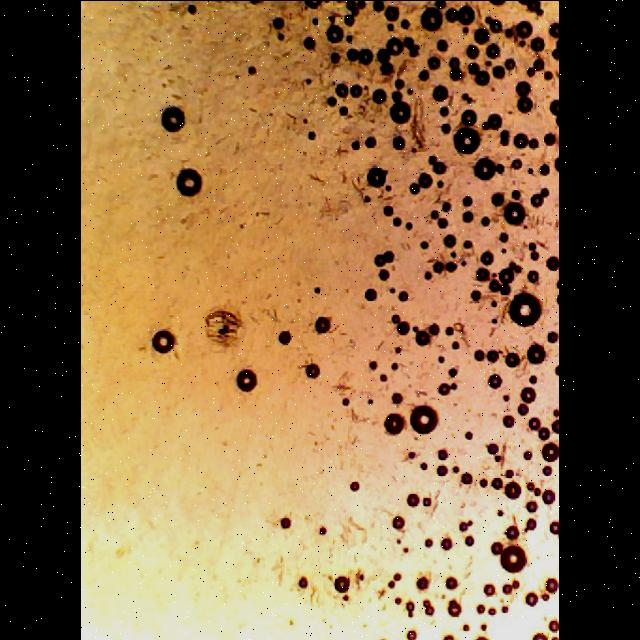microbeads: (508, 290, 544, 328), (174, 164, 206, 200), (408, 402, 439, 433), (450, 126, 484, 154), (499, 542, 526, 576), (159, 104, 187, 134), (148, 327, 176, 355), (234, 367, 258, 393)
